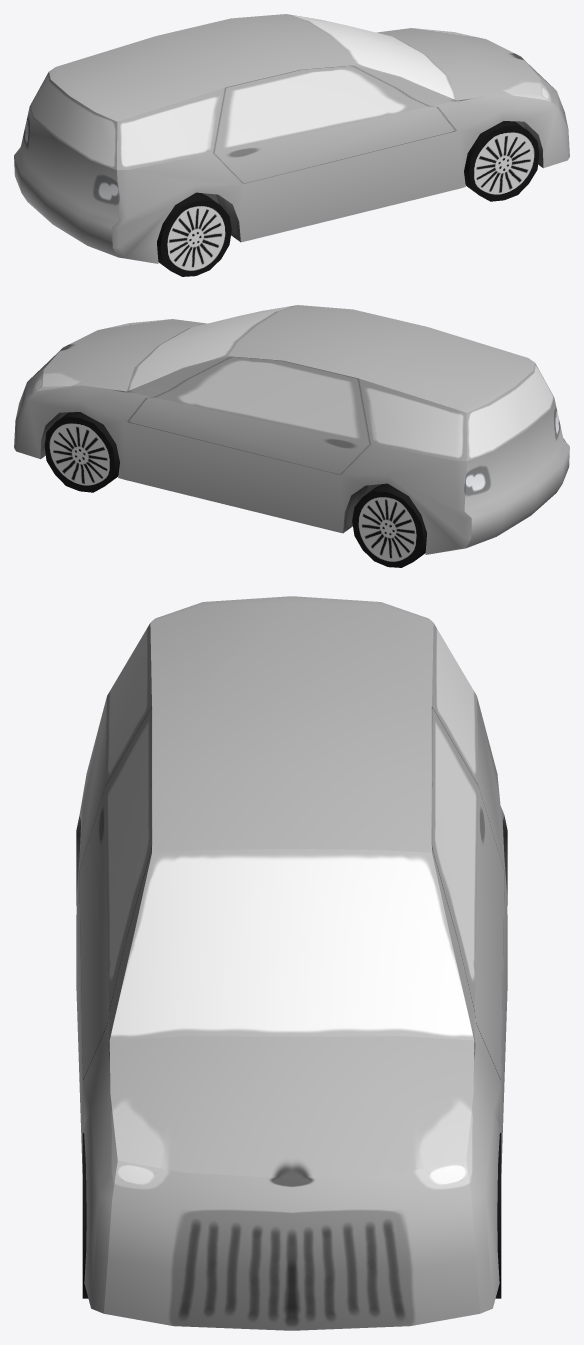
Rendered from normal.fbx.
The picture shows the model from 3 angles, top to bottom: view 1: azimuth 30°, elevation 25°; view 2: azimuth 150°, elevation 25°; view 3: azimuth 270°, elevation 25°; orthographic projection. The views are drawn at different scales.
Visible parts, largest first — view 1: Car_Normal #lod0; view 2: Car_Normal #lod0; view 3: Car_Normal #lod0.
Boxes of the visible parts, box(x1,y1,x2,y2) form: Car_Normal #lod0: box(14, 14, 569, 276); Car_Normal #lod0: box(14, 305, 569, 567); Car_Normal #lod0: box(76, 596, 507, 1330).
Size of the model in its own units: 514 by 194 by 168.
